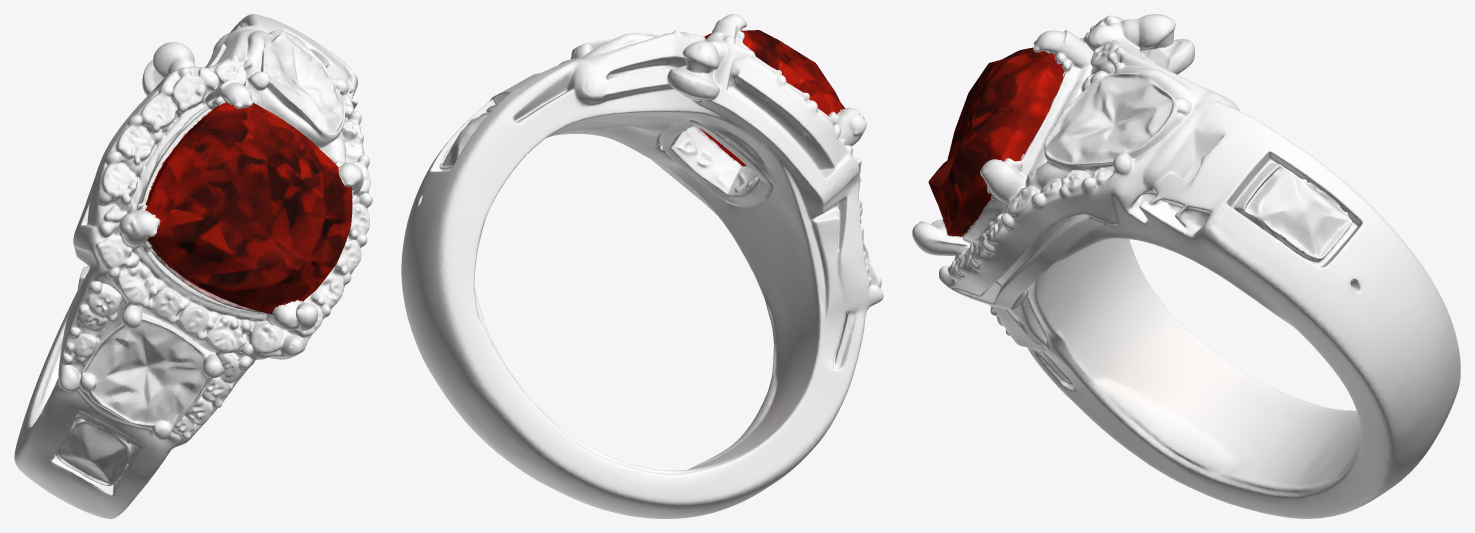
The picture shows the model from 3 angles, left to right: view 1: azimuth 30°, elevation 25°; view 2: azimuth 150°, elevation 25°; view 3: azimuth 270°, elevation 25°; orthographic projection. The views are drawn at different scales.
Bounding box in the file's own units: 0.7171 × 0.831 × 0.8242.
Materials: 1 (1 with a texture image).
